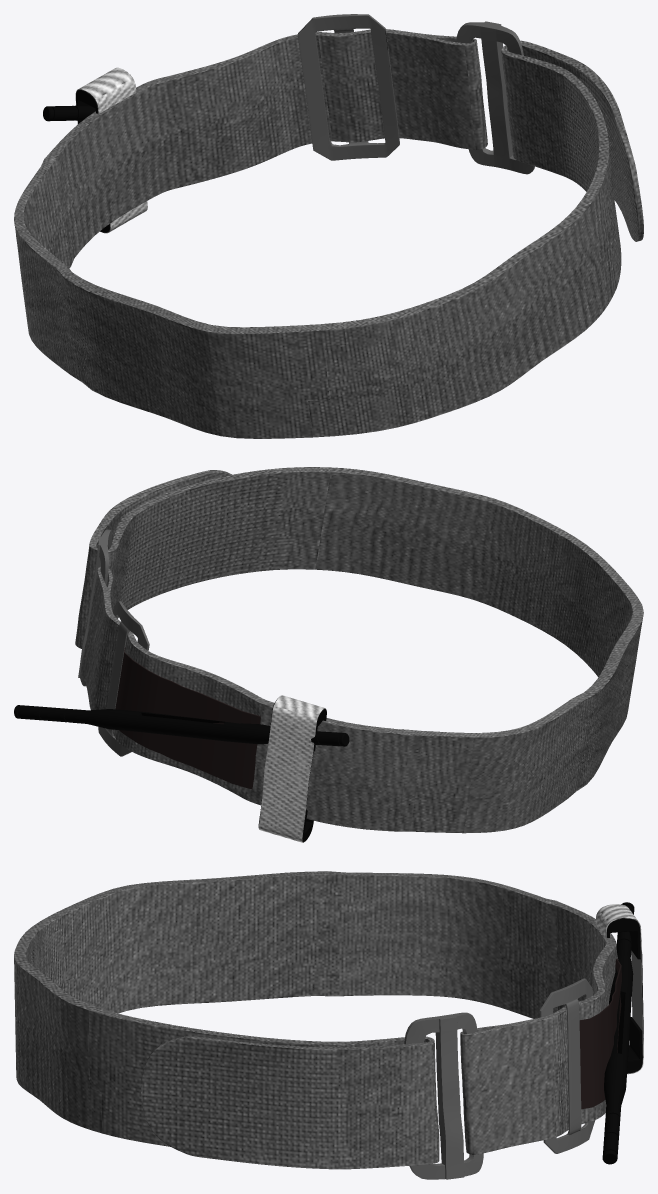
Rendered from tourniquettestt.fbx.
The picture shows the model from 3 angles, top to bottom: view 1: azimuth 30°, elevation 25°; view 2: azimuth 150°, elevation 25°; view 3: azimuth 270°, elevation 25°; orthographic projection. The views are drawn at different scales.
Visible parts, largest first — view 1: tourniquet; view 2: tourniquet; view 3: tourniquet.
Boxes of the visible parts, x1,y1,x2,y2 form: tourniquet: (14, 14, 643, 438); tourniquet: (14, 467, 643, 842); tourniquet: (14, 871, 643, 1179).
Bounding box in the file's own units: 25.87 × 9.37 × 25.68.
